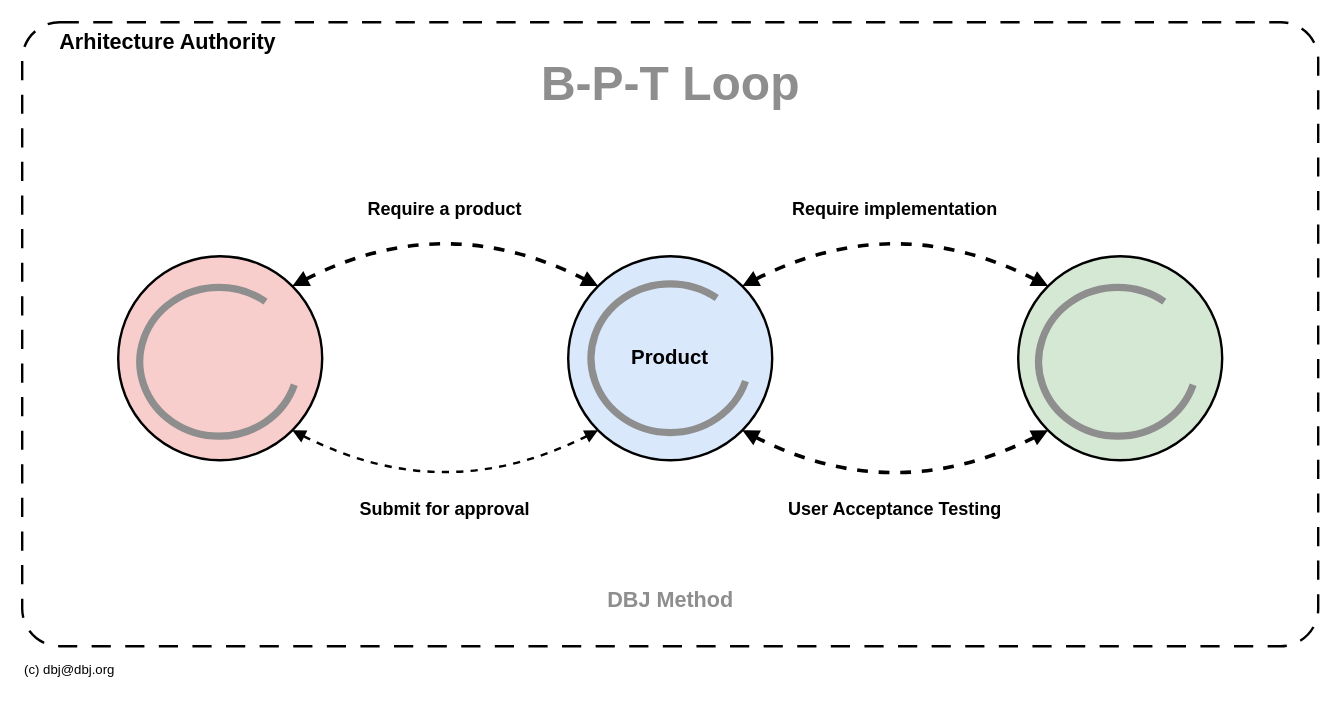
This 1339x702 diagram has some shape labels left out. The box of each missing label's shape, as (x1, y1, x2, y2) in pixels:
Business: (116, 254, 323, 461)
Technology: (1016, 254, 1223, 461)
